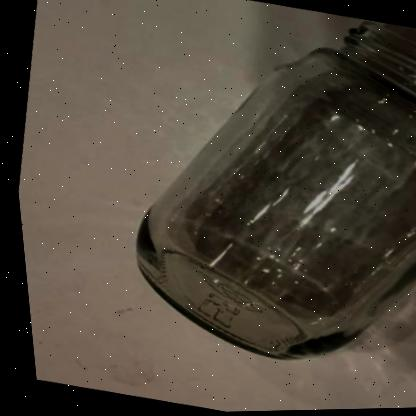Glass: (131, 21, 416, 359)
